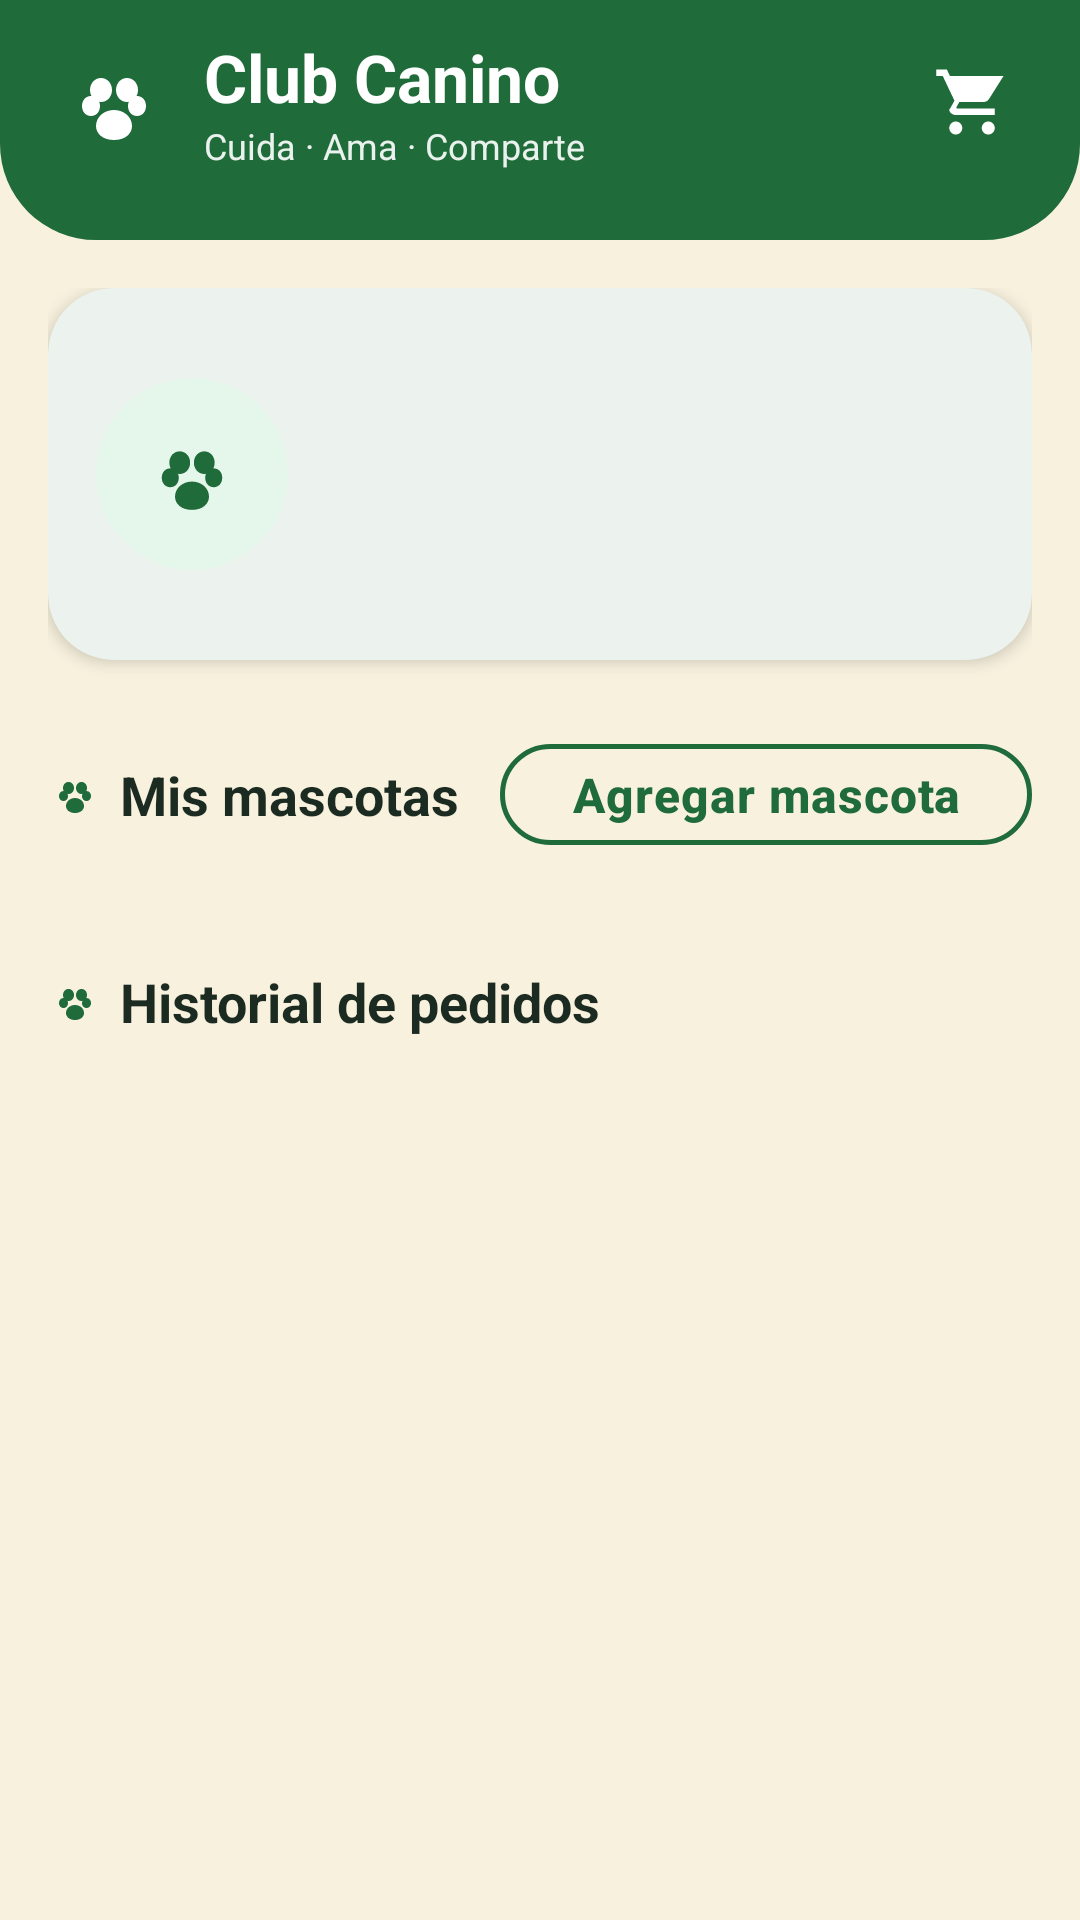

Point at icon controls on the screen. Image size 1080*1920, points as (x=x, y=y).
Abrir carrito: (x=970, y=102)
paw: (x=114, y=109), (x=192, y=480), (x=75, y=797), (x=75, y=1004)
